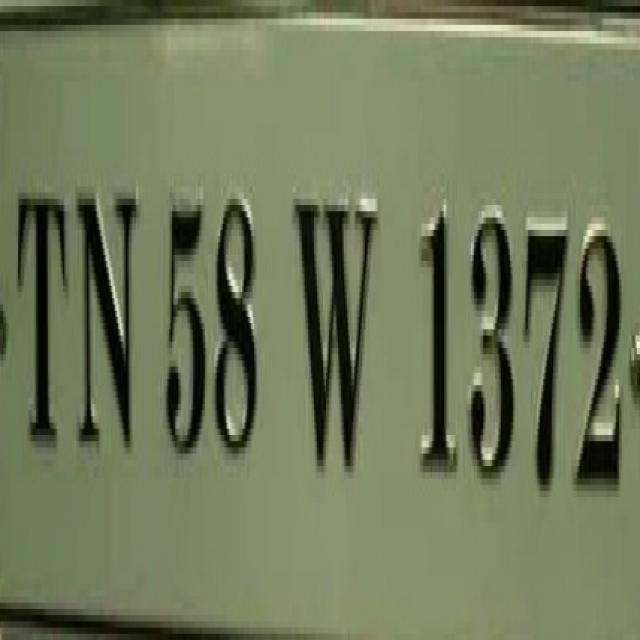1: (410, 149, 460, 516)
3: (463, 157, 521, 534)
5: (159, 133, 212, 523)
7: (520, 190, 573, 503)
8: (210, 154, 261, 490)
N: (73, 146, 141, 502)
T: (12, 157, 71, 493)
W: (287, 154, 383, 516)
